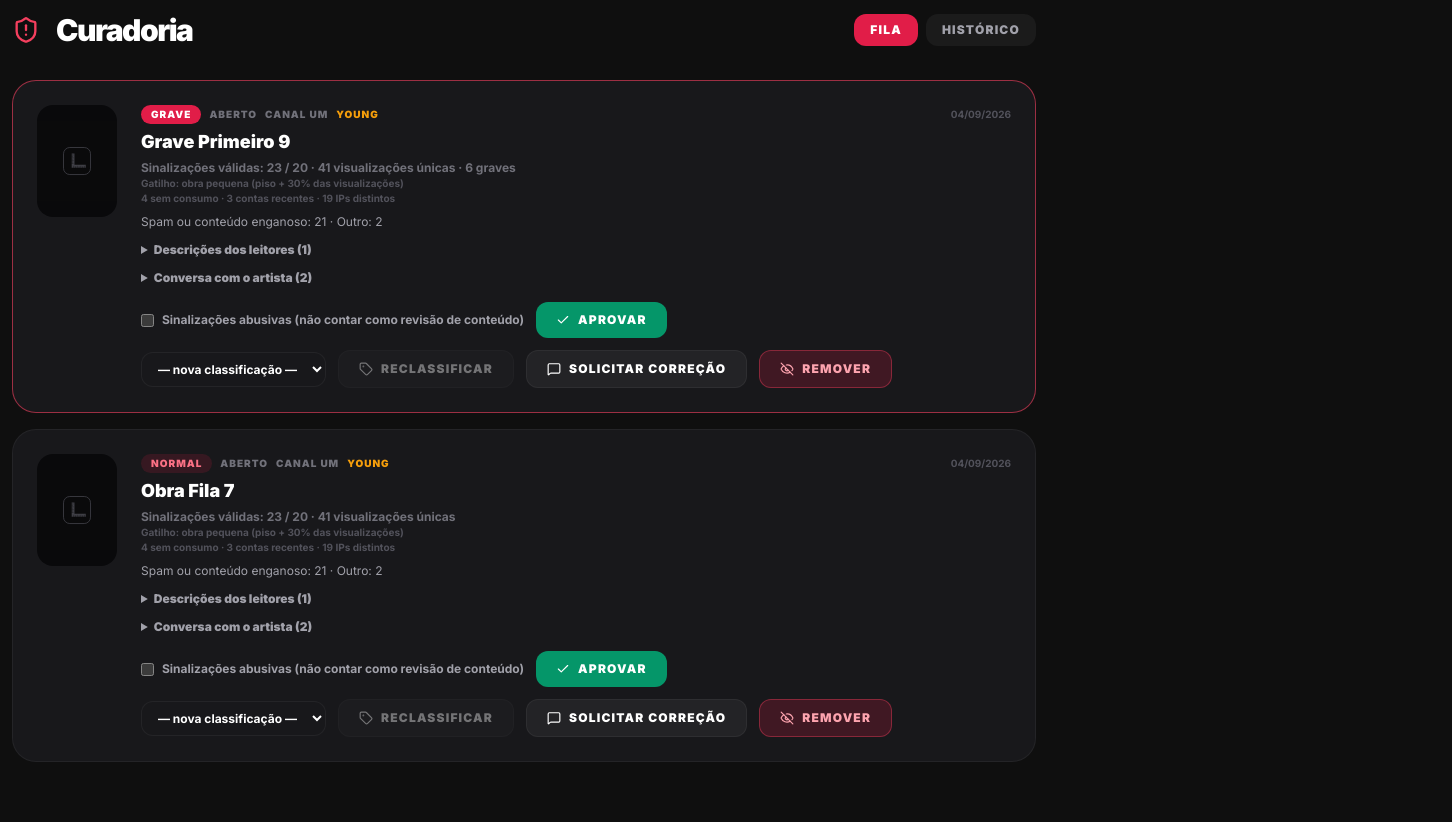
Test case: CuradoriaPanel › decisão aplicada com avisoArtista != enviado mostra o alerta e recarrega a fila (regra 7 do Vin)
Click the 2nd button "Aprovar" at x=601, y=669, box left=536, top=651, right=667, bottom=687
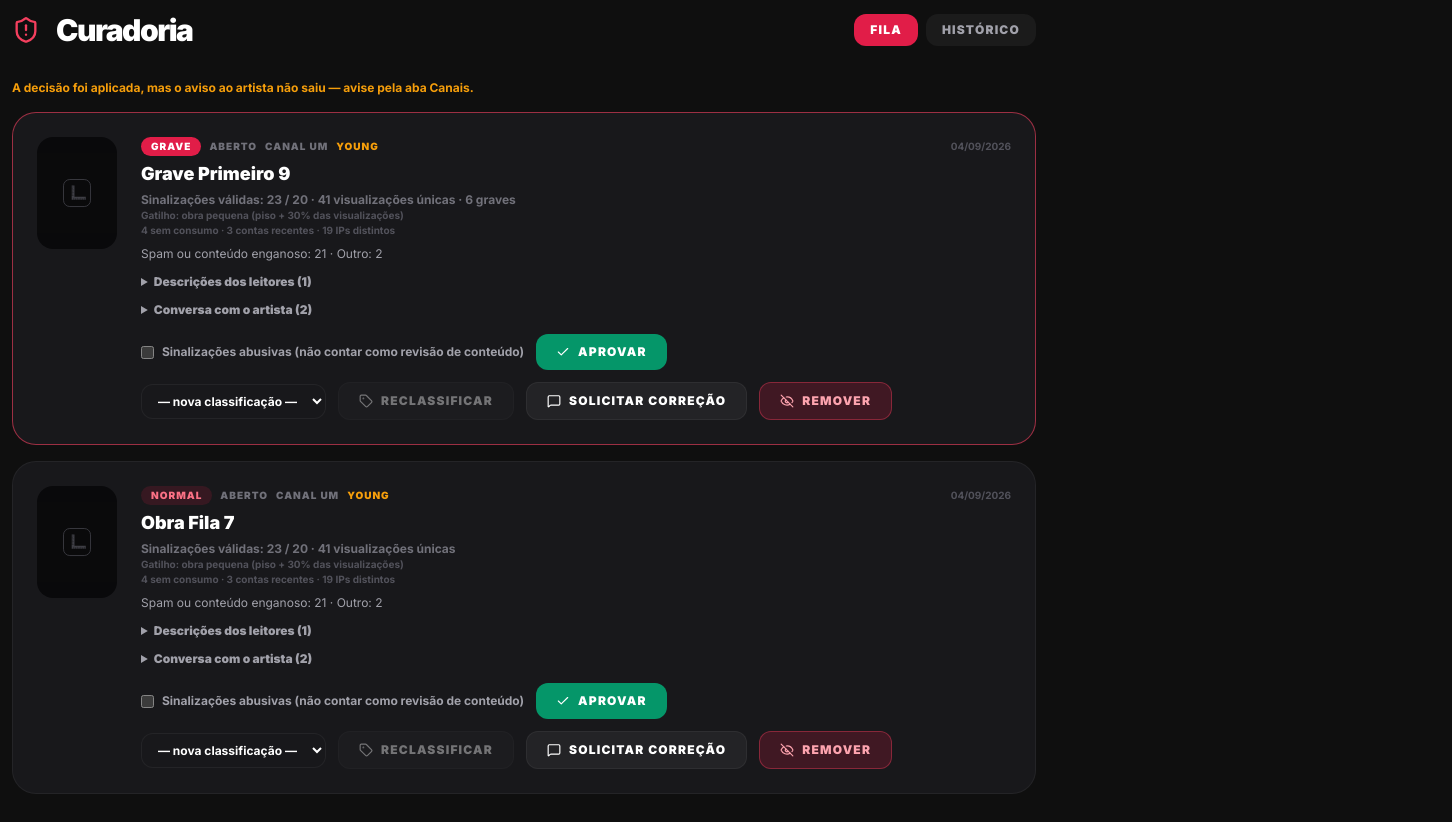
Expected: the text "aviso ao artista não saiu" is shown, left=12, top=80, right=474, bottom=95
